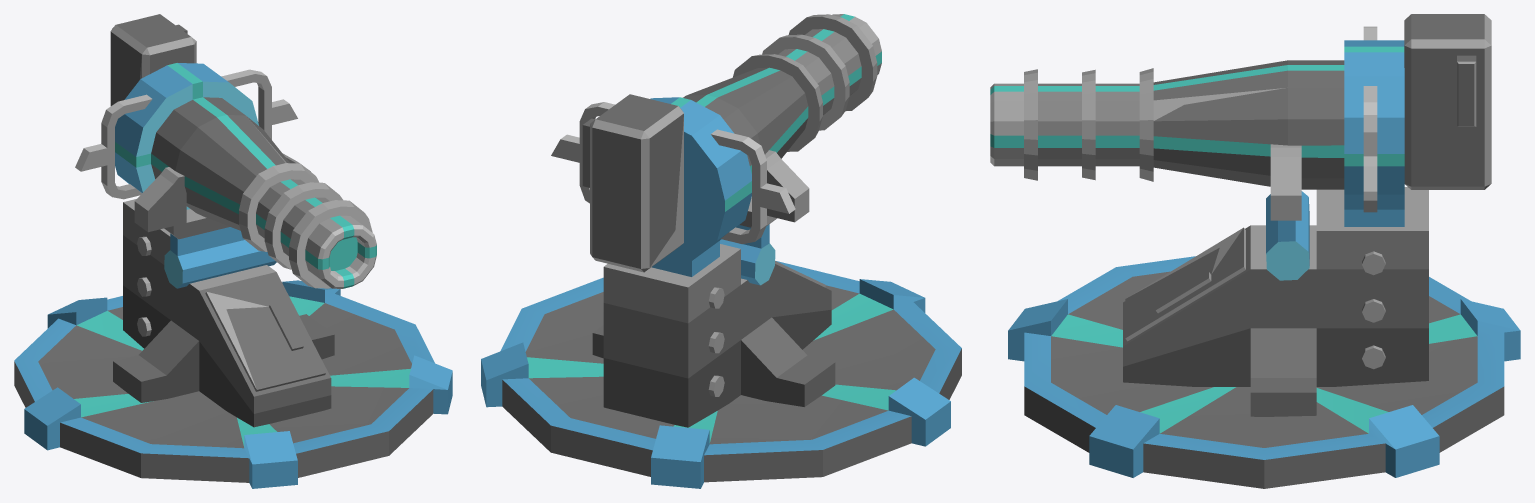
File: tower_laser_blue_2.fbx
3 renders of one model, left to right at view 1: azimuth 30°, elevation 25°; view 2: azimuth 150°, elevation 25°; view 3: azimuth 270°, elevation 25°, orthographic. The views are drawn at different scales.
Parts seen in each view (by area): view 1: top_laser_blue_2, tower_laser_blue_2; view 2: top_laser_blue_2, tower_laser_blue_2; view 3: top_laser_blue_2, tower_laser_blue_2.
Part boxes in pixels (x1,y1,x2,y2): top_laser_blue_2: [75, 14, 376, 427]; tower_laser_blue_2: [14, 280, 452, 488]; top_laser_blue_2: [551, 14, 881, 427]; tower_laser_blue_2: [481, 261, 961, 488]; top_laser_blue_2: [990, 14, 1491, 416]; tower_laser_blue_2: [1008, 256, 1520, 488].
Bounding box in the file's own units: 147 × 113 × 152.
